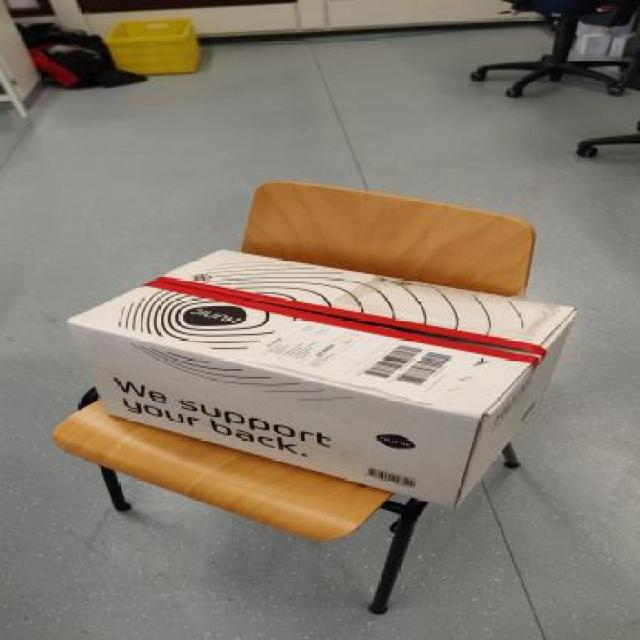box: (35, 245, 588, 513)
